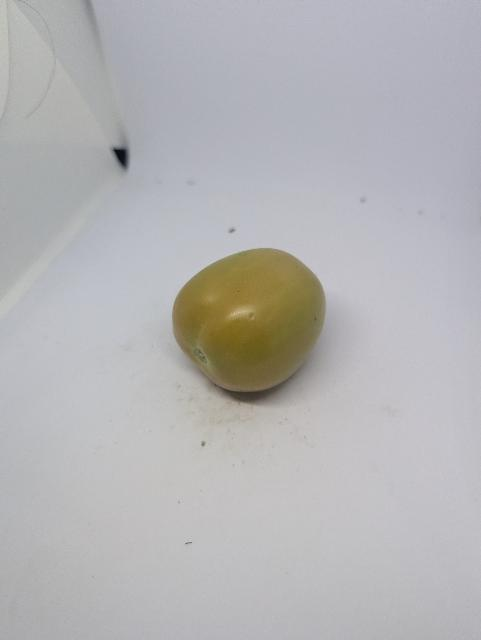breaker: (173, 248, 326, 392)
